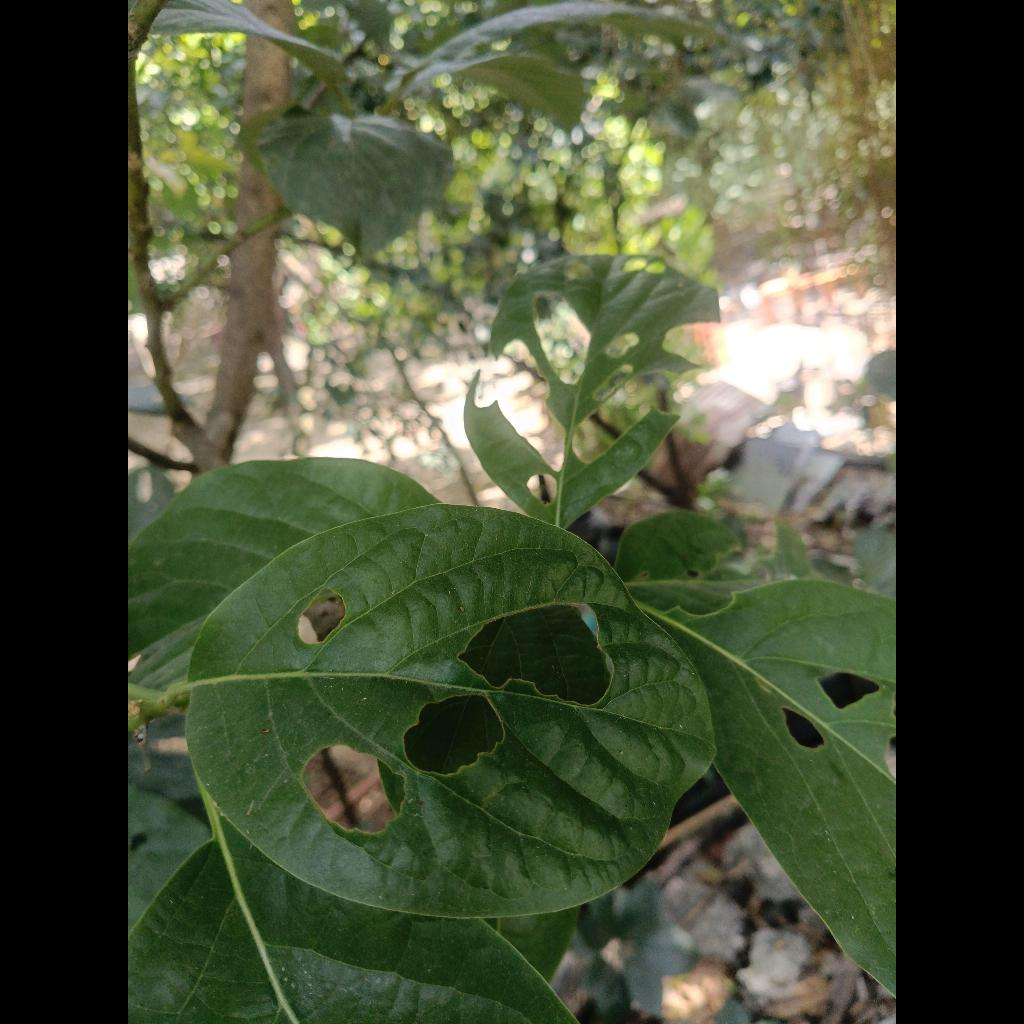plaga: (188, 505, 711, 916)
